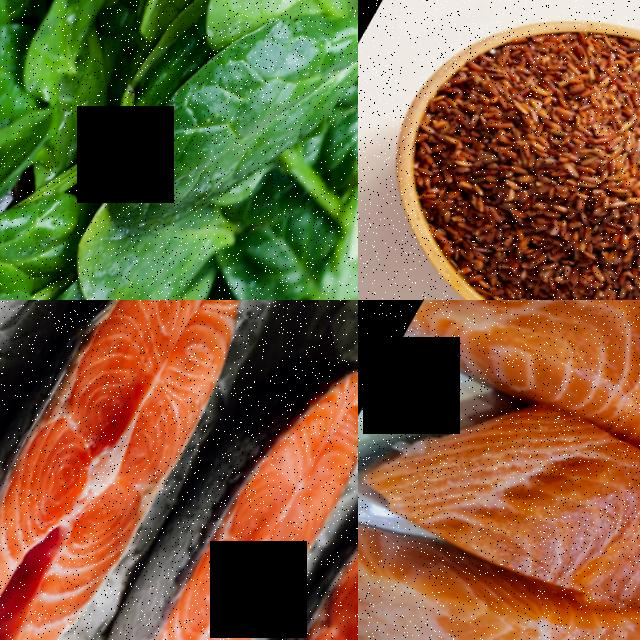red rice: (371, 0, 640, 300)
salmon: (24, 315, 358, 640), (0, 300, 287, 640), (358, 345, 640, 640), (394, 300, 640, 559), (139, 446, 358, 640), (358, 477, 592, 640)
spinach: (104, 35, 321, 277), (214, 186, 357, 300), (45, 203, 210, 300), (0, 177, 88, 300)
